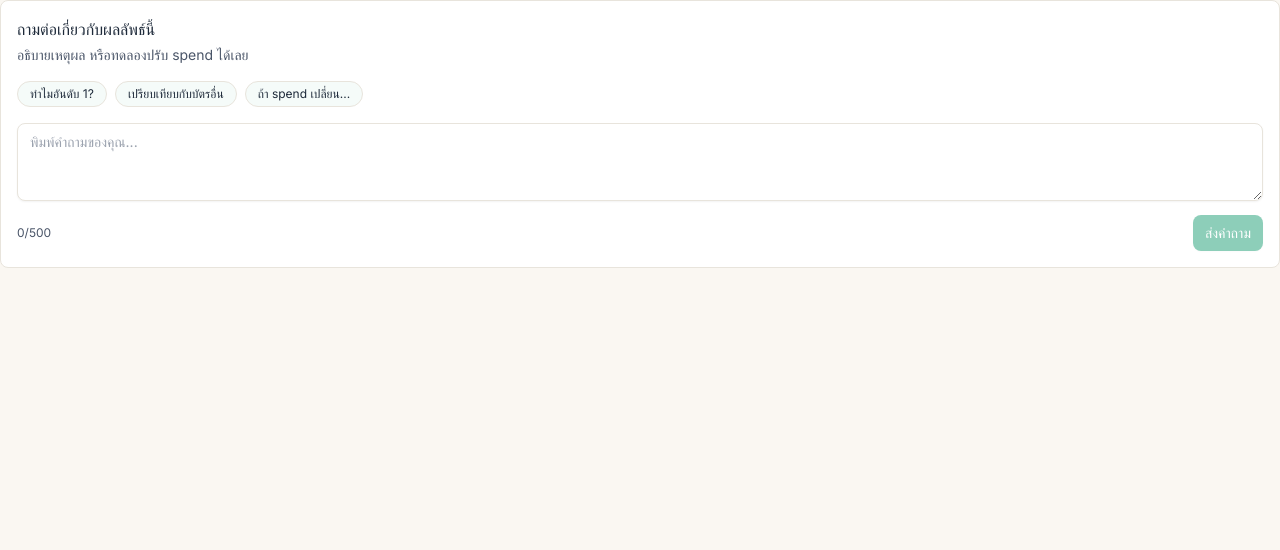
Scenario: ChatPanel › renders rationale diff bullets and the new-stack disclosure for a what-if with cards_changed
In the text box with placeholder "พิมพ์คำถามของคุณ...": (640, 162) [17,123,1263,201], type "ถ้า dining เพิ่ม 20,000 บาท ผลเปลี่ยนไหม?"
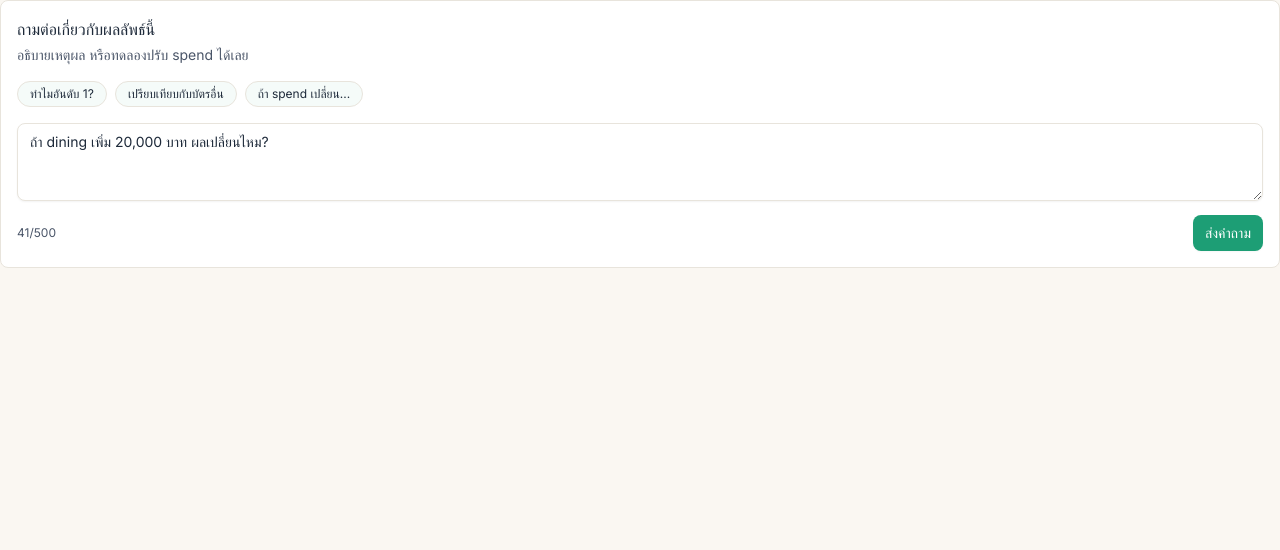
Click the button "ส่งคำถาม": (1228, 233) [1193,215,1263,251]
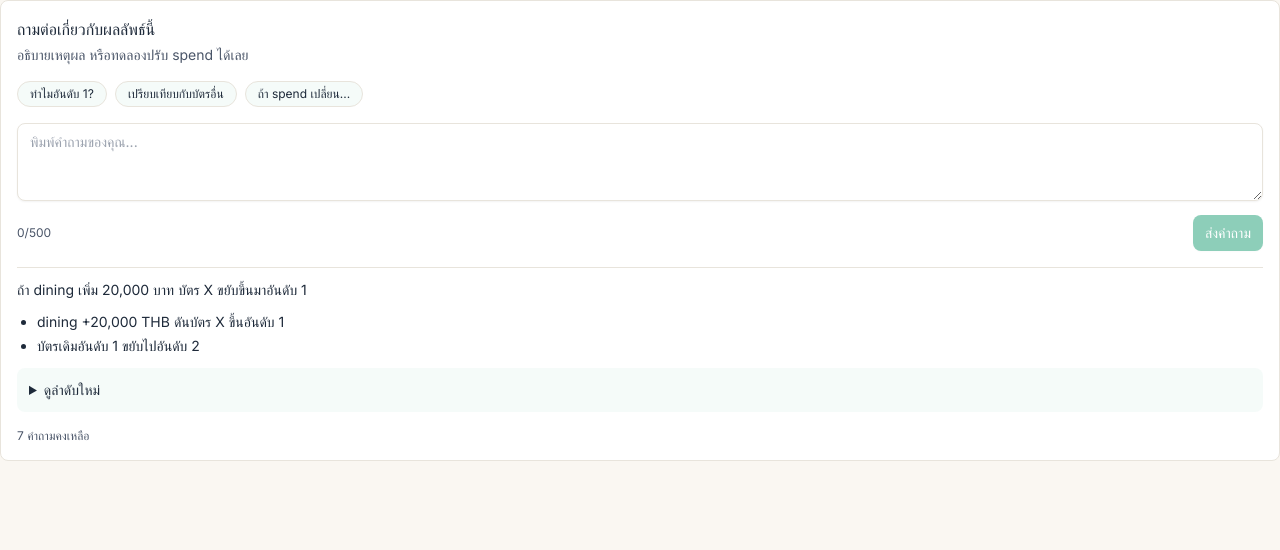
Check: the list item "dining +20,000 THB ดันบัตร X ขึ้นอันดับ 1" is shown, box [37,313,284,330]
Check: the list item "บัตรเดิมอันดับ 1 ขยับไปอันดับ 2" is shown, box [37,337,200,354]
Check: the heading "ดูลำดับใหม่" is shown
Toggle open to reveal the ordered list.
Click the heading "ดูลำดับใหม่": (72, 390) [44,381,100,398]
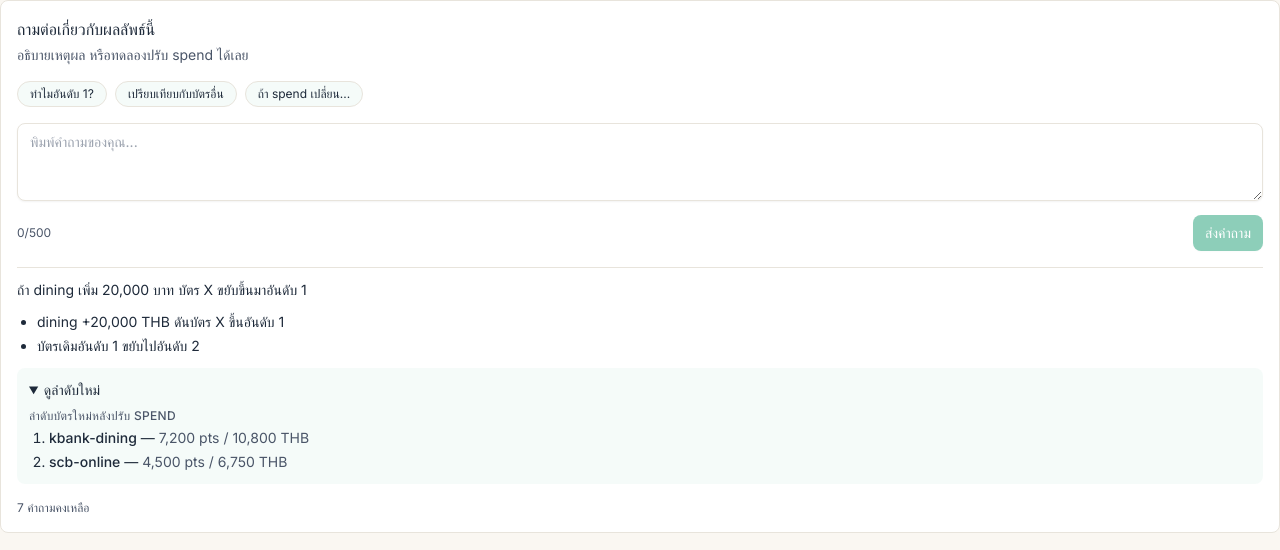
Check: the text "kbank-dining" is shown, box [49,429,137,446]
